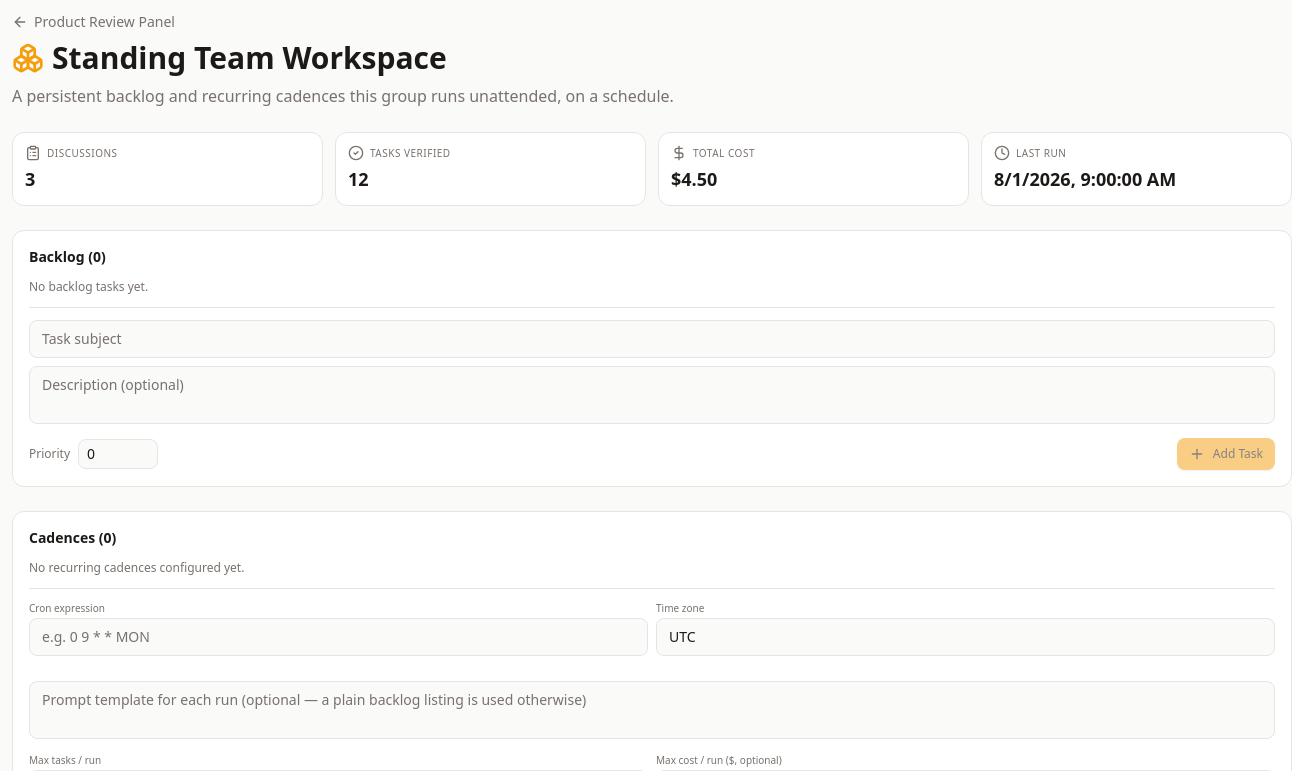
Test: GroupWorkspacePage › surfaces the backend's 409 message when the backlog is full
Expected: the button with test id "workspace-add-task" is shown, [1177,438,1275,470]
In the field with test id "workspace-task-subject": [652, 339] box [29,320,1275,358], type "One more task"
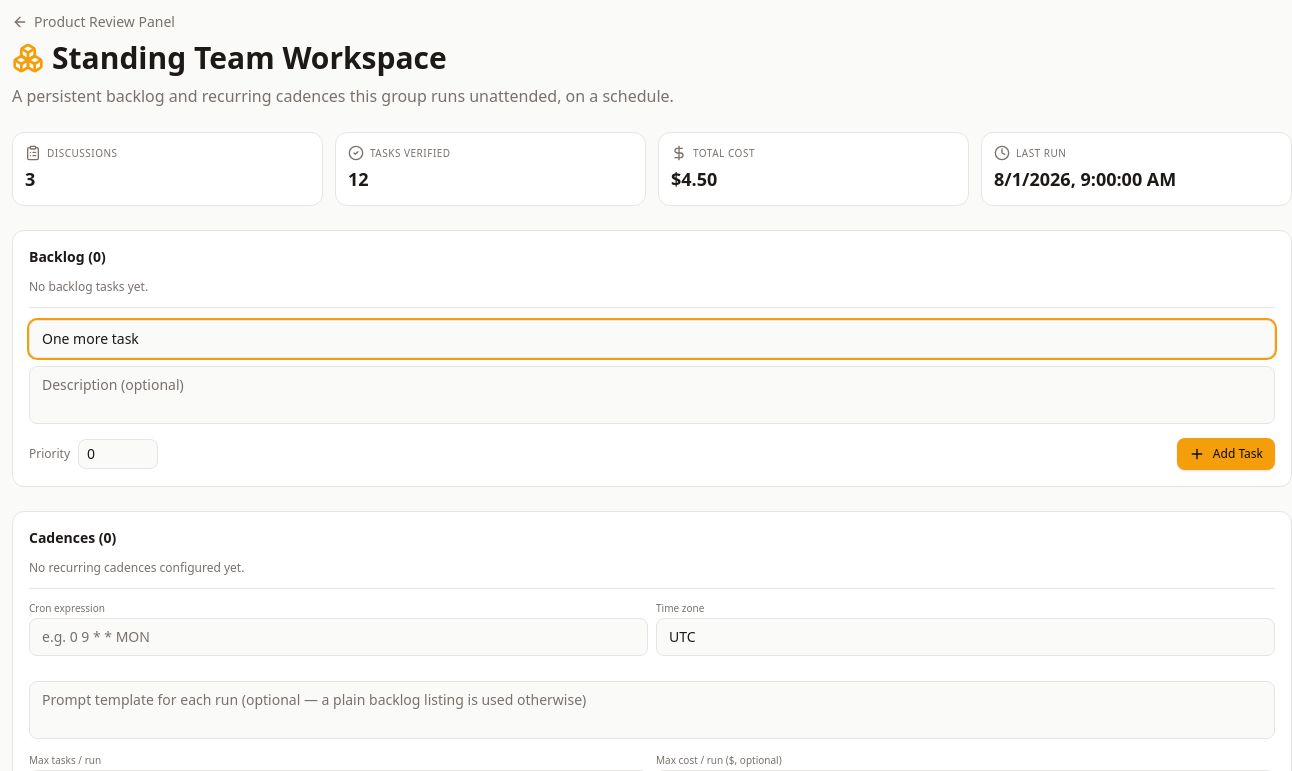
Click the button with test id "workspace-add-task": [1226, 454] box [1177,438,1275,470]
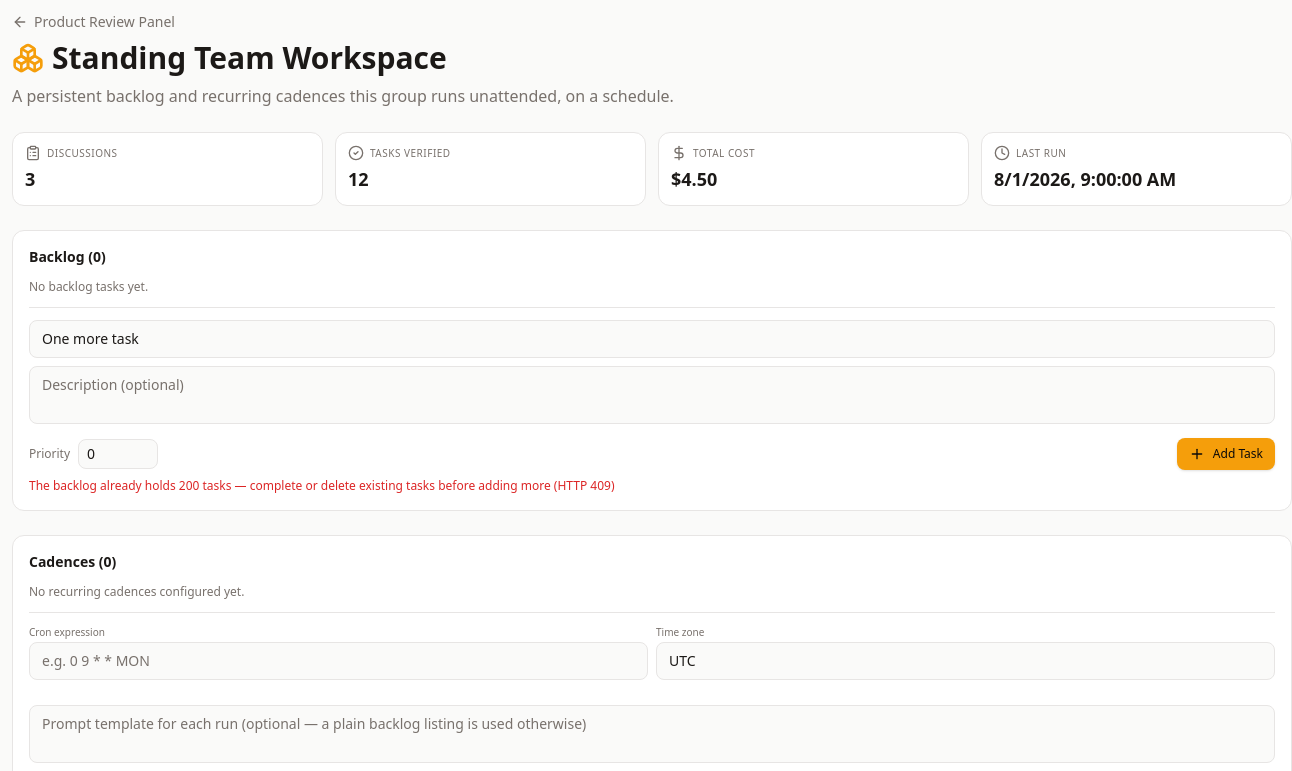
Result: the text with test id "workspace-task-error" shows "The backlog already holds 200 tasks" at [29,477,614,494]
